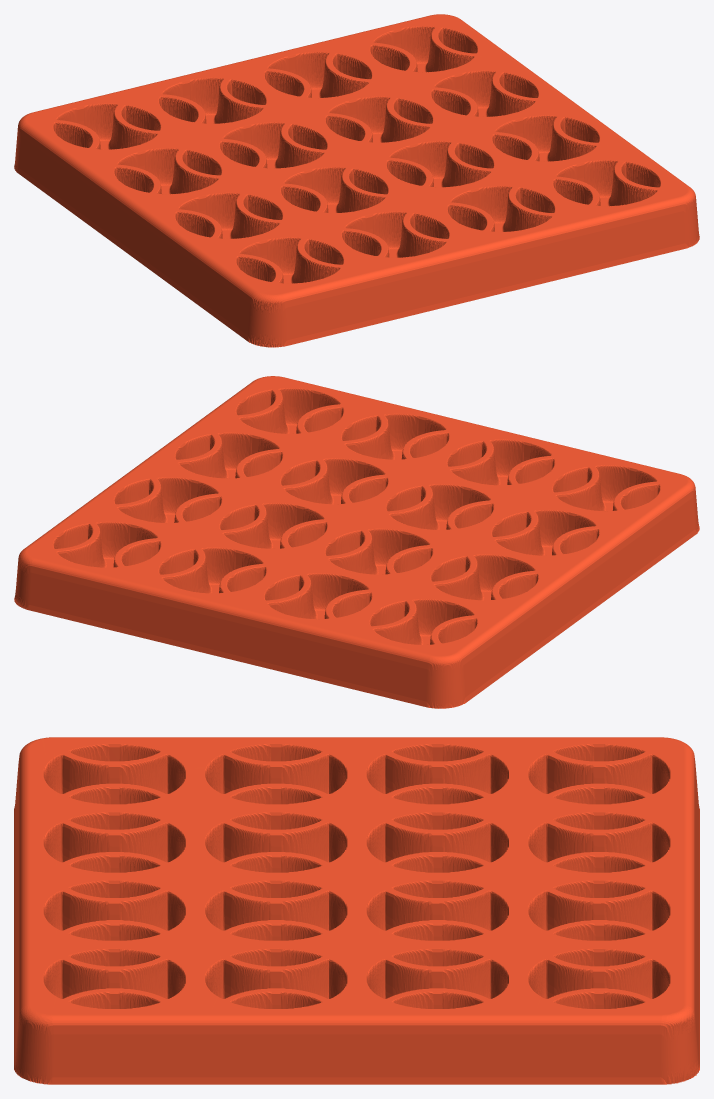
File: mold.glb
3 renders of one model, top to bottom at view 1: azimuth 30°, elevation 25°; view 2: azimuth 150°, elevation 25°; view 3: azimuth 270°, elevation 25°, orthographic. The views are drawn at different scales.
Parts seen in each view (by area): view 1: geometry_0; view 2: geometry_0; view 3: geometry_0.
Boxes of the visible parts, box(x1,y1,x2,y2) form: geometry_0: box(14, 14, 699, 347); geometry_0: box(14, 376, 699, 708); geometry_0: box(14, 737, 699, 1084).
Size of the model in its own units: 0.1569 by 0.0159 by 0.1569.
